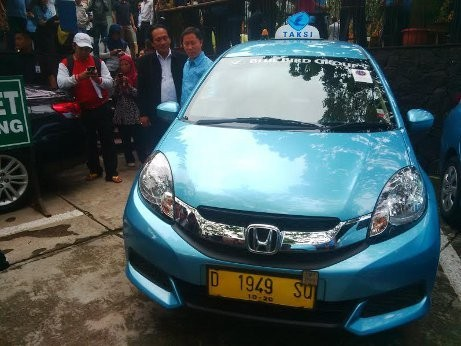plate: (208, 268, 317, 309)
